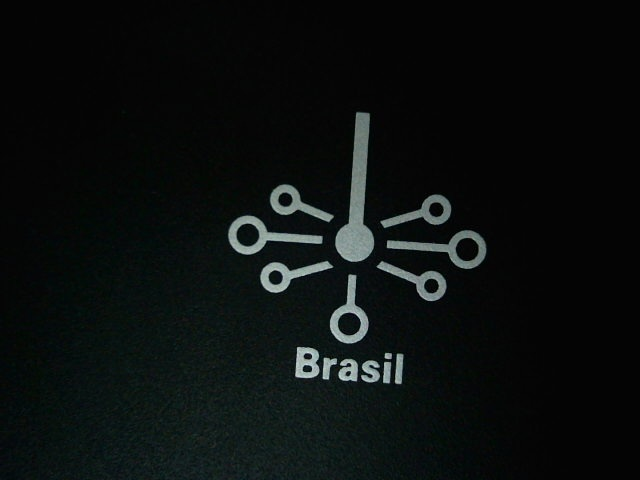BG_Brasil: (210, 96, 510, 420)
